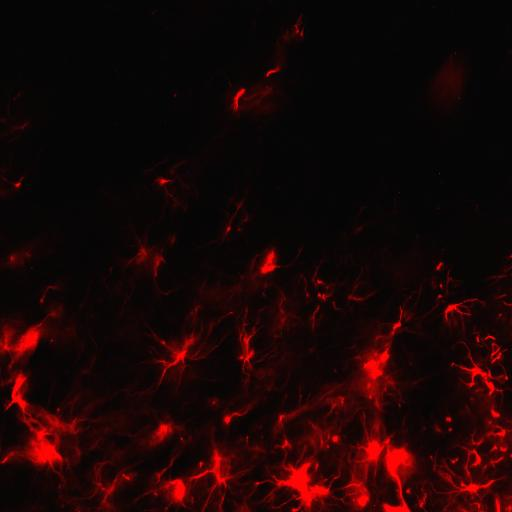microglia: (262, 12, 305, 83), (161, 333, 208, 379), (91, 462, 137, 508), (233, 79, 275, 113), (453, 342, 487, 380), (274, 458, 311, 492), (128, 230, 152, 274), (29, 440, 65, 468), (386, 446, 415, 480), (444, 298, 487, 320), (3, 248, 41, 272), (0, 122, 34, 148), (238, 326, 256, 373), (7, 373, 28, 413), (14, 326, 40, 354), (345, 286, 381, 303), (362, 439, 384, 462), (1, 172, 24, 192), (169, 477, 187, 502), (220, 213, 234, 245), (153, 172, 174, 192), (40, 285, 60, 304), (224, 410, 247, 424), (42, 308, 64, 322), (308, 303, 318, 333), (233, 88, 246, 110), (263, 245, 278, 264), (260, 264, 282, 275), (154, 422, 169, 438), (363, 356, 380, 370), (213, 472, 230, 486), (492, 351, 506, 367), (484, 381, 496, 398), (36, 428, 50, 442), (212, 450, 222, 469), (490, 342, 501, 358), (356, 494, 368, 506), (234, 199, 247, 210), (380, 349, 390, 363), (332, 300, 342, 313), (471, 452, 480, 466), (464, 483, 478, 492), (279, 298, 286, 316), (266, 68, 279, 77), (464, 381, 478, 389), (392, 322, 402, 332), (490, 408, 499, 417), (495, 428, 505, 436), (485, 334, 496, 341), (501, 374, 509, 383), (317, 292, 325, 300), (224, 416, 231, 424), (122, 473, 130, 480), (304, 291, 311, 299), (263, 281, 268, 292), (283, 438, 289, 447), (436, 262, 442, 270), (332, 435, 338, 442), (279, 414, 284, 422), (445, 416, 451, 422), (475, 336, 480, 343), (300, 30, 304, 36), (316, 280, 322, 284), (199, 461, 203, 466), (368, 394, 372, 398), (10, 256, 14, 260), (40, 298, 43, 303), (439, 284, 442, 288), (246, 436, 249, 440), (438, 294, 441, 298), (448, 428, 451, 432), (57, 408, 59, 410)
